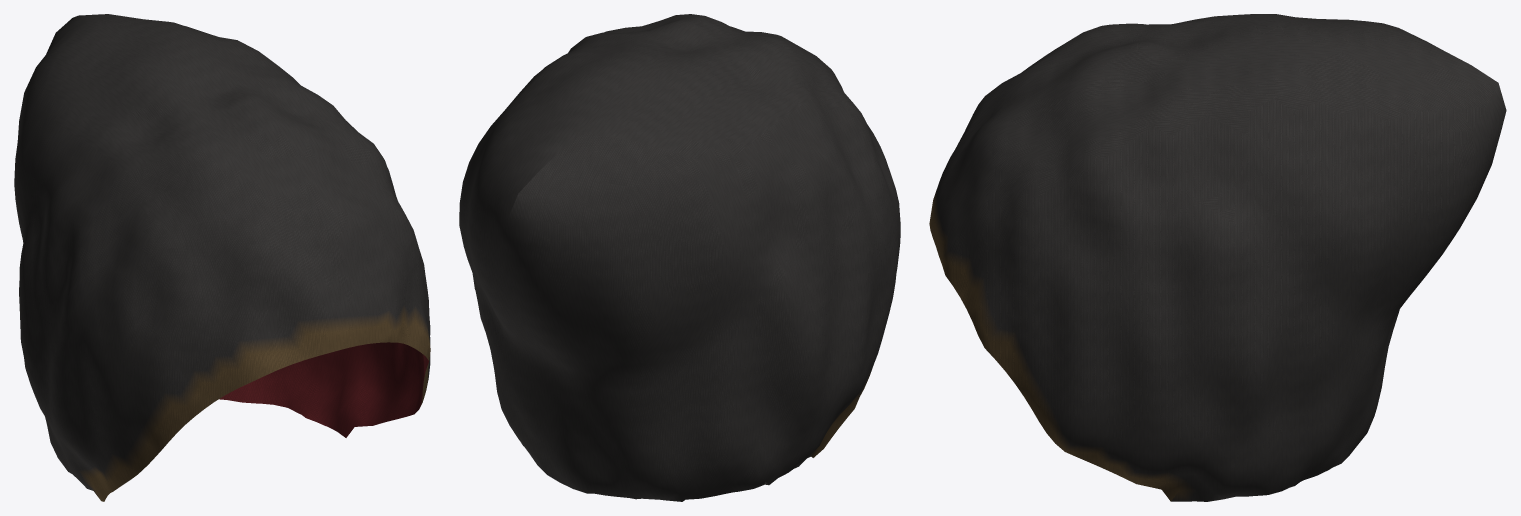
The model's file is cowl-head-v1.glb.
The picture shows the model from 3 angles, left to right: view 1: azimuth 30°, elevation 25°; view 2: azimuth 150°, elevation 25°; view 3: azimuth 270°, elevation 25°; orthographic projection. The views are drawn at different scales.
Visible parts, largest first — view 1: cowl_outer; view 2: cowl_outer; view 3: cowl_outer.
Part boxes in pixels (bbox=[...]): cowl_outer: bbox=[14, 14, 430, 501]; cowl_outer: bbox=[459, 14, 900, 501]; cowl_outer: bbox=[929, 14, 1506, 501].
Bounding box in the file's own units: 0.241 × 0.2631 × 0.3337.
1 material, 1 textured.
